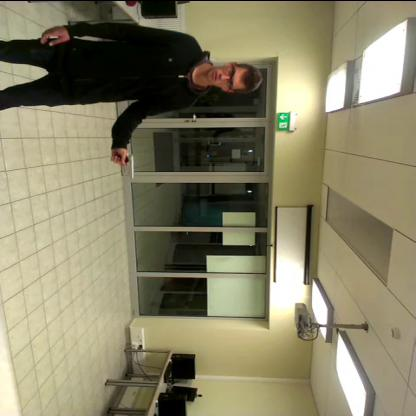Pistol: (102, 148, 146, 182)
